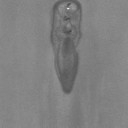slag inclusion: (50, 0, 83, 94)
